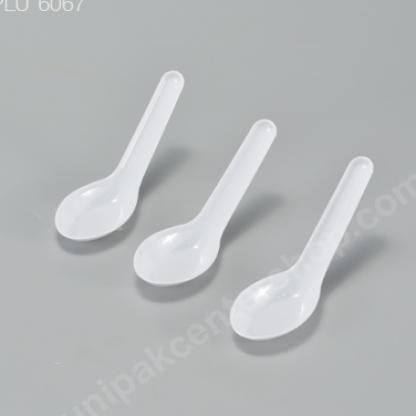Others: (228, 150, 379, 342), (135, 124, 281, 288), (52, 73, 178, 248)
